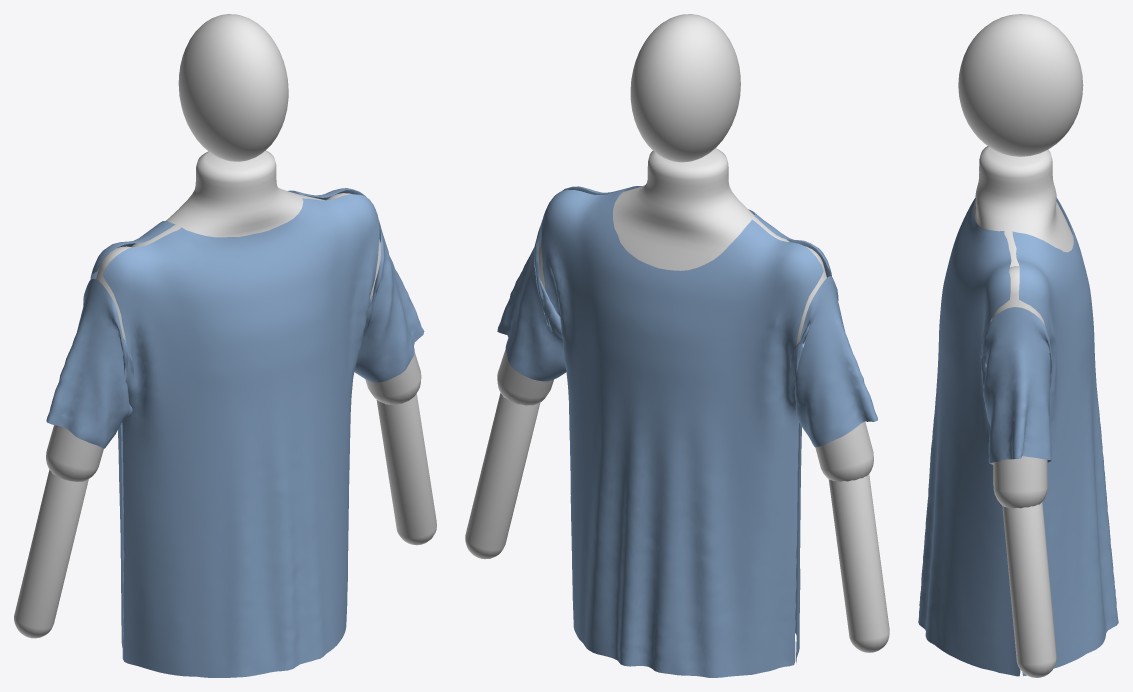
File: tshirt_avatar.glb
3 renders of one model, left to right at view 1: azimuth 30°, elevation 25°; view 2: azimuth 150°, elevation 25°; view 3: azimuth 270°, elevation 25°, orthographic. The views are drawn at different scales.
Visible parts, largest first — view 1: BACK, avatar_head, SLEEVE_L, avatar_torso, avatar_arm3, avatar_arm1, SLEEVE_R, avatar_arm2, FRONT, avatar_arm0; view 2: FRONT, avatar_head, avatar_torso, SLEEVE_L, avatar_arm3, avatar_arm1, SLEEVE_R, avatar_arm2, BACK, avatar_arm0; view 3: BACK, FRONT, avatar_head, SLEEVE_R, avatar_torso, avatar_arm1, avatar_arm0.
Part boxes in pixels (x1=…): BACK: x1=103, y1=194, x2=379, y2=677; avatar_head: x1=178, y1=14, x2=288, y2=161; SLEEVE_L: x1=46, y1=279, x2=133, y2=448; avatar_torso: x1=131, y1=150, x2=324, y2=247; avatar_arm3: x1=14, y1=470, x2=88, y2=638; avatar_arm1: x1=376, y1=393, x2=436, y2=545; SLEEVE_R: x1=354, y1=220, x2=424, y2=382; avatar_arm2: x1=46, y1=246, x2=131, y2=481; FRONT: x1=90, y1=188, x2=365, y2=660; avatar_arm0: x1=326, y1=193, x2=421, y2=404; FRONT: x1=541, y1=189, x2=823, y2=677; avatar_head: x1=630, y1=14, x2=740, y2=162; avatar_torso: x1=613, y1=148, x2=789, y2=270; SLEEVE_L: x1=790, y1=276, x2=877, y2=447; avatar_arm3: x1=828, y1=474, x2=889, y2=652; avatar_arm1: x1=465, y1=393, x2=540, y2=559; SLEEVE_R: x1=497, y1=219, x2=566, y2=381; avatar_arm2: x1=796, y1=246, x2=873, y2=481; BACK: x1=562, y1=186, x2=831, y2=662; avatar_arm0: x1=497, y1=240, x2=553, y2=405; BACK: x1=918, y1=198, x2=1020, y2=676; FRONT: x1=1012, y1=197, x2=1118, y2=676; avatar_head: x1=958, y1=14, x2=1083, y2=156; SLEEVE_R: x1=981, y1=307, x2=1052, y2=464; avatar_torso: x1=973, y1=146, x2=1073, y2=327; avatar_arm1: x1=1002, y1=502, x2=1056, y2=677; avatar_arm0: x1=990, y1=266, x2=1047, y2=508.
Size of the model in its own units: 74.31 by 105 by 31.45.
